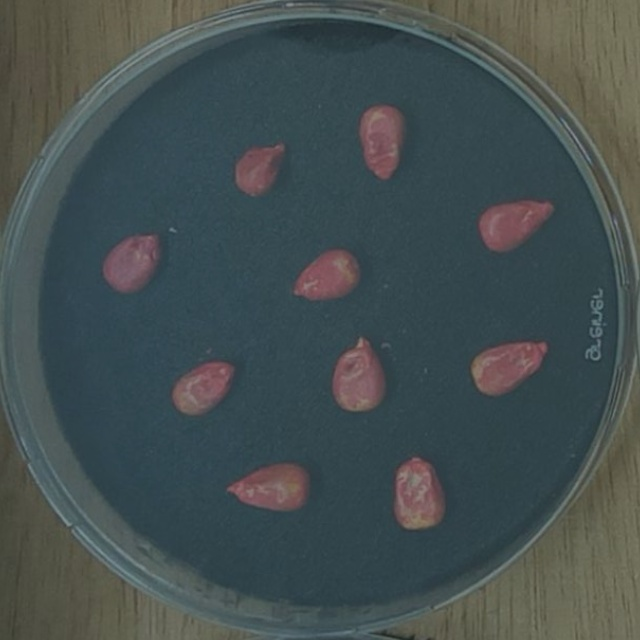Zea mays: (463, 331, 557, 405), (221, 451, 318, 519), (471, 189, 562, 261), (326, 327, 394, 419), (162, 350, 244, 425), (284, 237, 369, 309), (94, 222, 170, 299), (386, 451, 453, 535), (354, 98, 413, 189), (227, 133, 296, 204)
